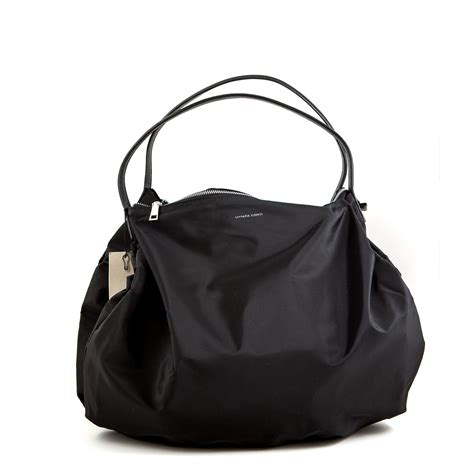nylon: (75, 187, 425, 450)
